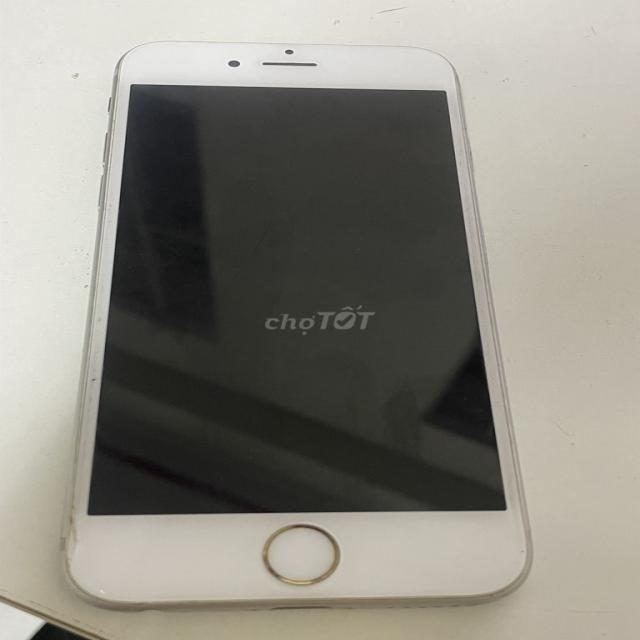physical_damage: (29, 438, 101, 602)
